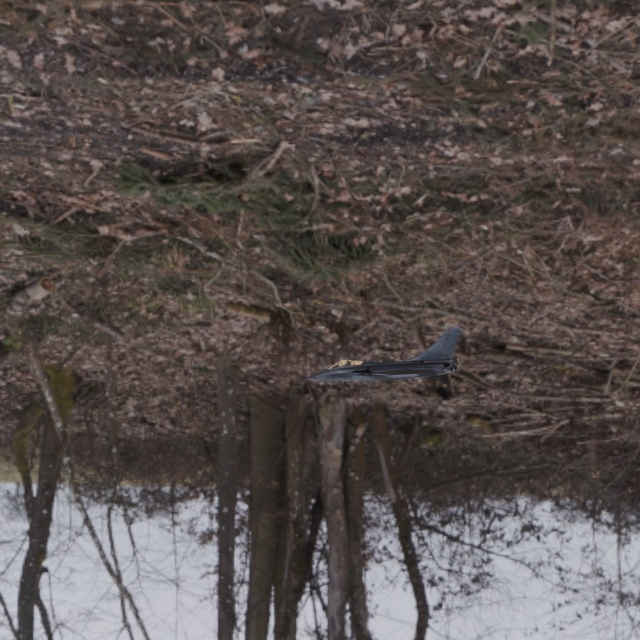dassault_rafale: (276, 324, 484, 388)
